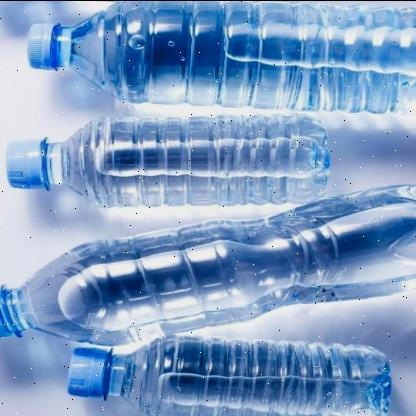Plastic Bottle: (0, 186, 416, 344), (28, 0, 416, 112), (6, 114, 330, 206), (68, 334, 392, 416)
